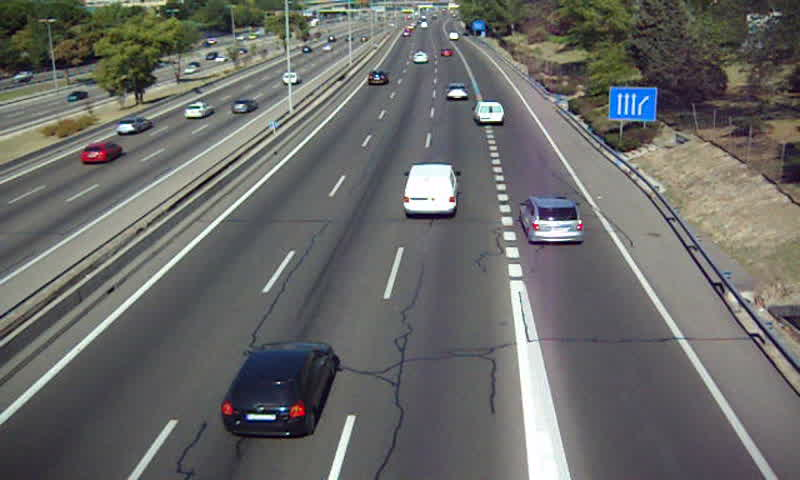car: (222, 341, 336, 436), (518, 198, 584, 244), (444, 83, 471, 102), (368, 70, 389, 86), (410, 50, 429, 63)
van: (405, 165, 457, 219), (474, 102, 505, 124)
